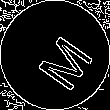M_NW: (21, 22, 89, 88)
